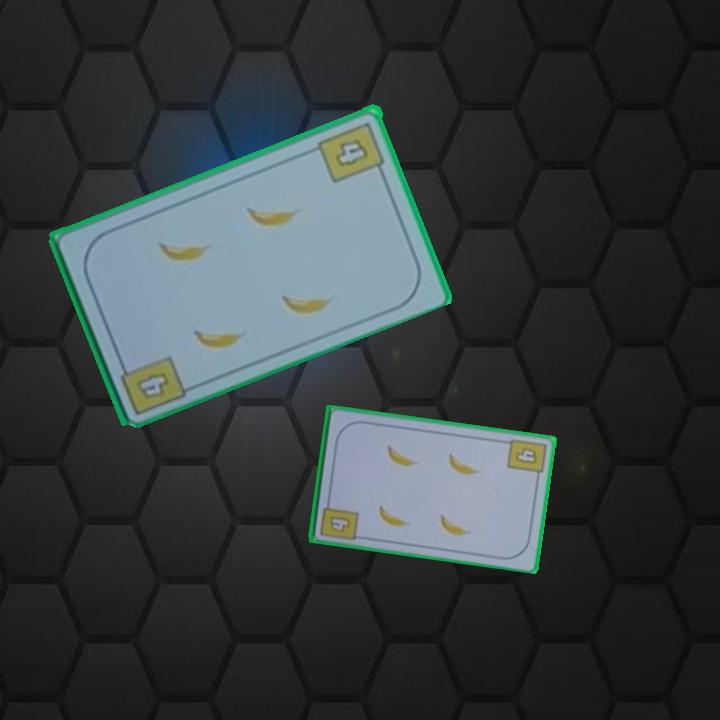4b: (315, 117, 388, 185), (115, 352, 189, 418), (504, 435, 549, 482), (317, 495, 361, 543)
